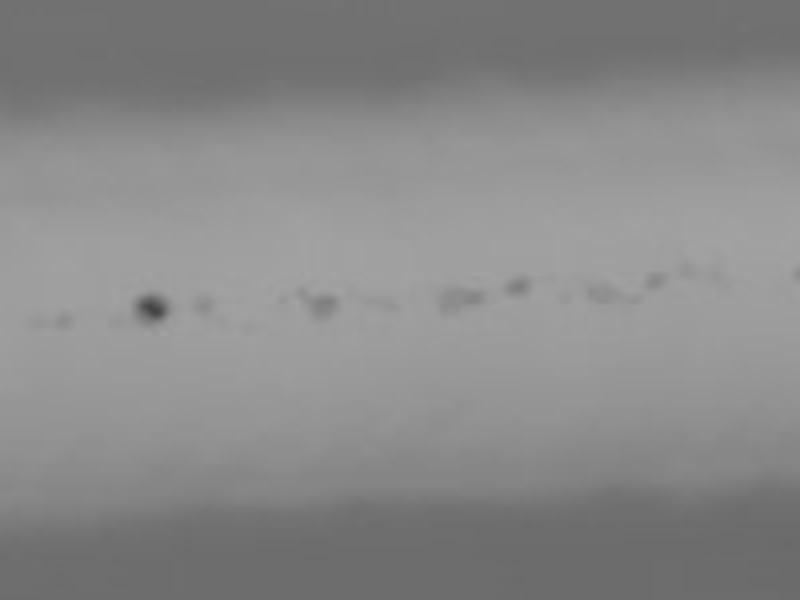defect: (441, 286, 485, 320), (583, 276, 622, 307), (308, 296, 341, 327), (137, 295, 167, 326), (637, 271, 671, 297), (363, 294, 402, 316), (504, 276, 534, 302), (192, 293, 215, 323), (676, 261, 704, 280), (106, 311, 129, 332), (555, 289, 578, 310), (29, 315, 55, 333), (57, 315, 77, 334), (238, 321, 257, 341), (625, 289, 643, 307), (273, 294, 291, 309), (290, 285, 308, 299)
